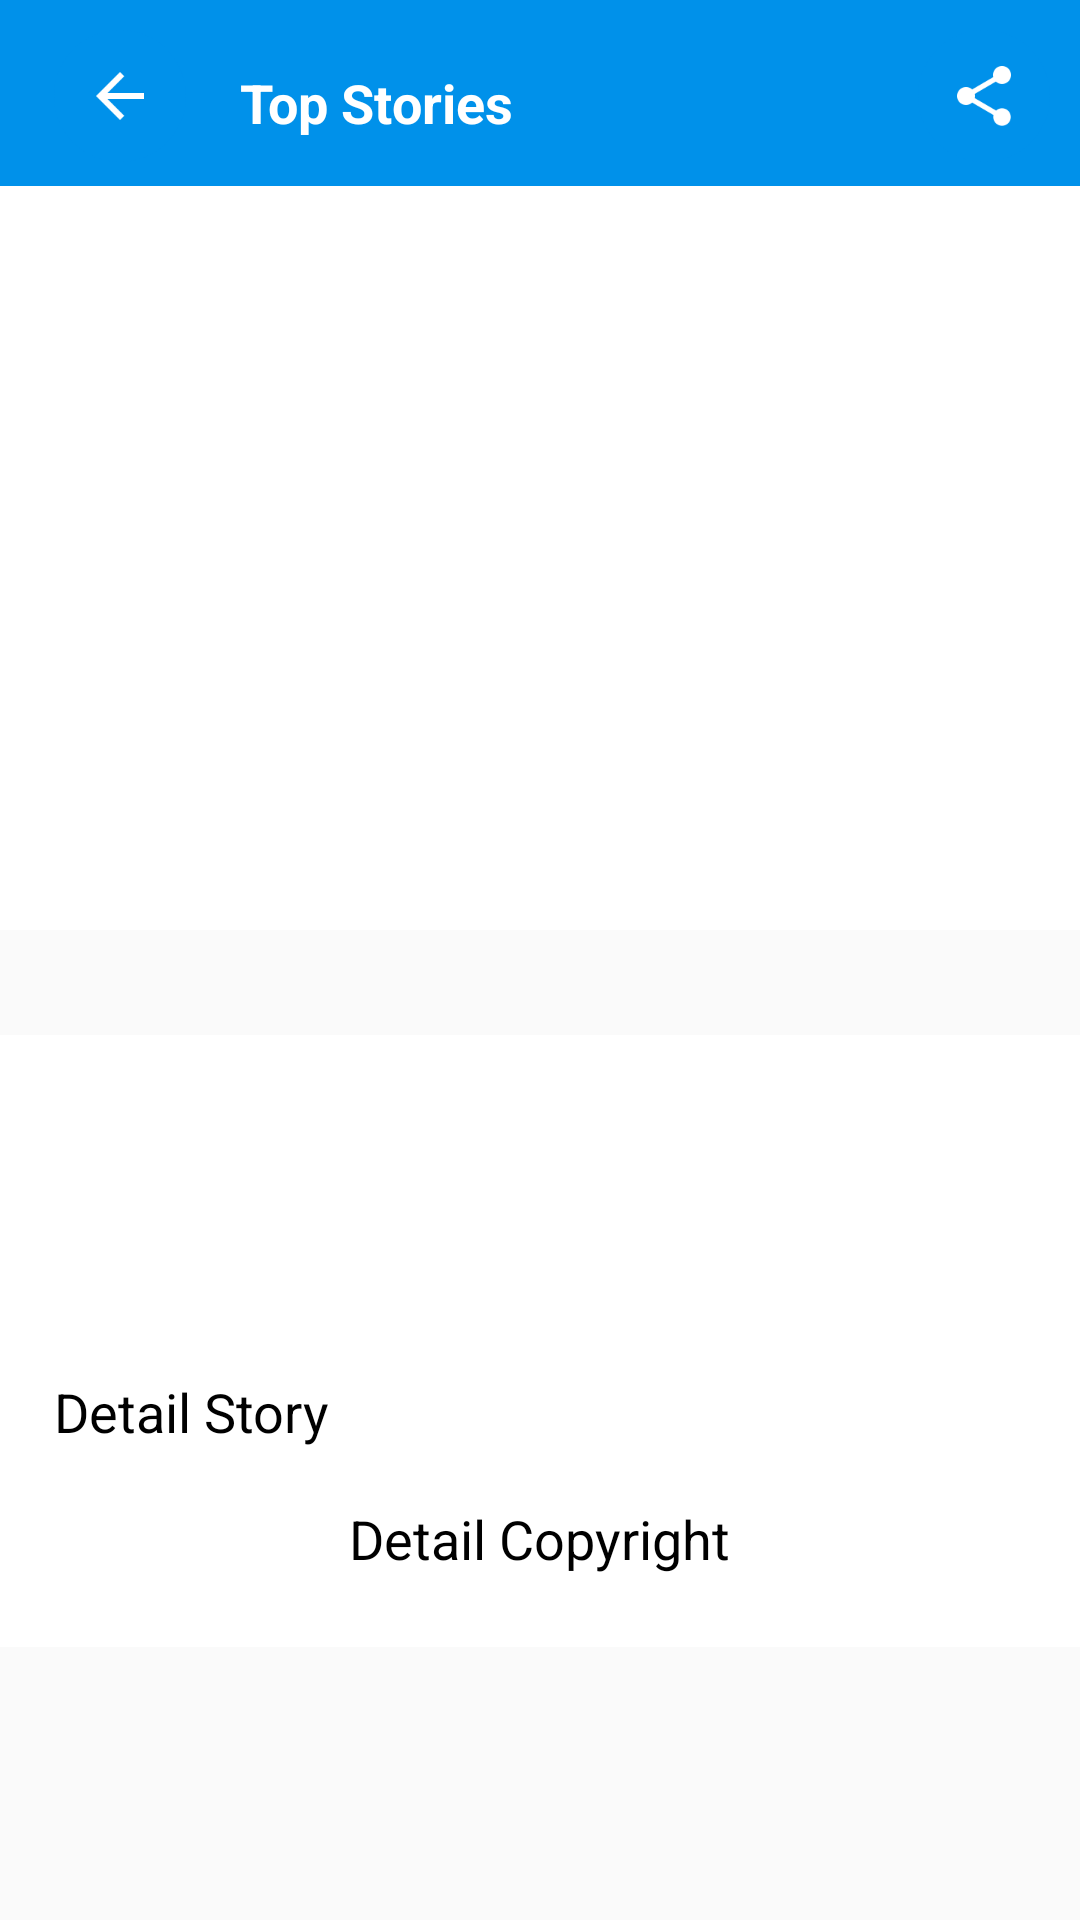

Named icons in this screenshot (1080*1920) and their centers, [x,y]:
arrow back: [120,96]
share: [984,96]
